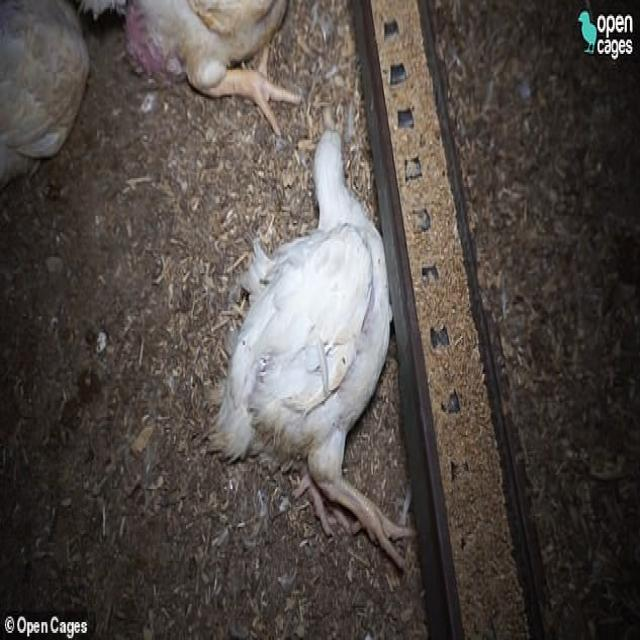Unhealthy: (193, 121, 450, 567)
